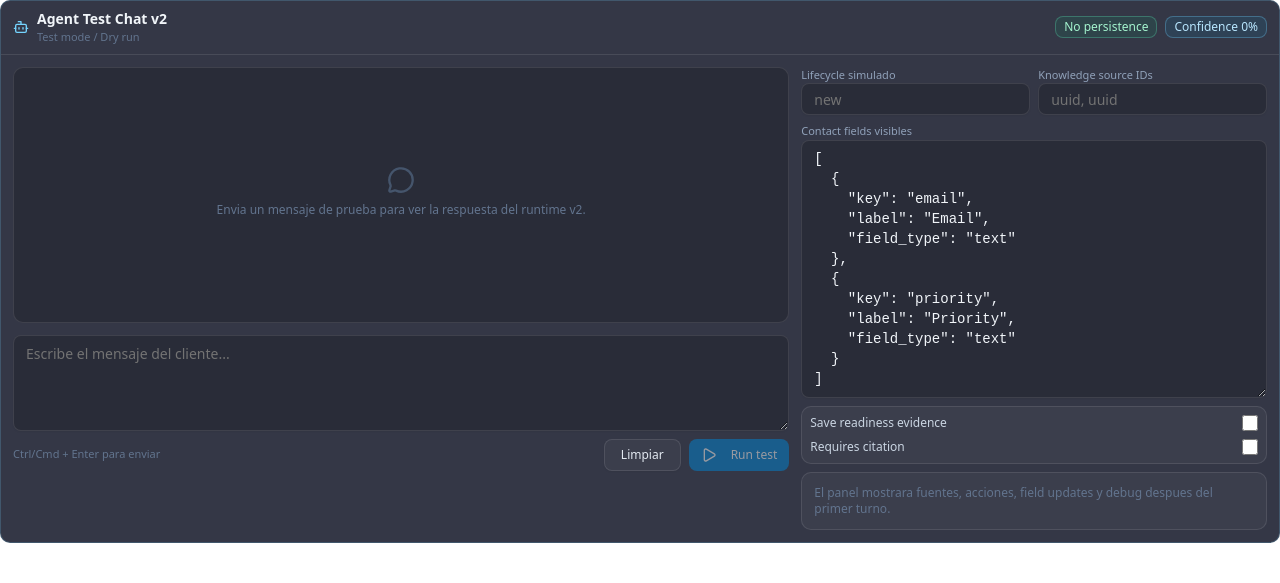
AgentTestChatV2 › renders PolicyValidator errors legibly
Type "Marca prioridad" into the text box with placeholder "Escribe el mensaje del cliente...".
click(401, 382); type("Marca prioridad")  # box [13,334,789,430]
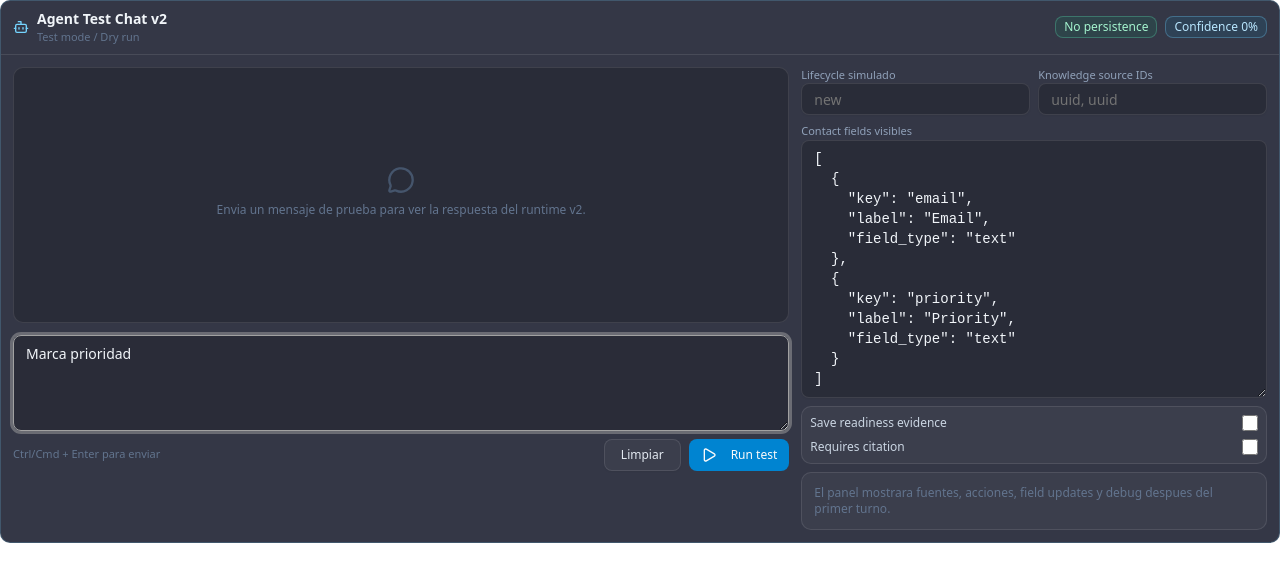
Click the button "Run test".
click(739, 454)  # box [689,438,789,470]
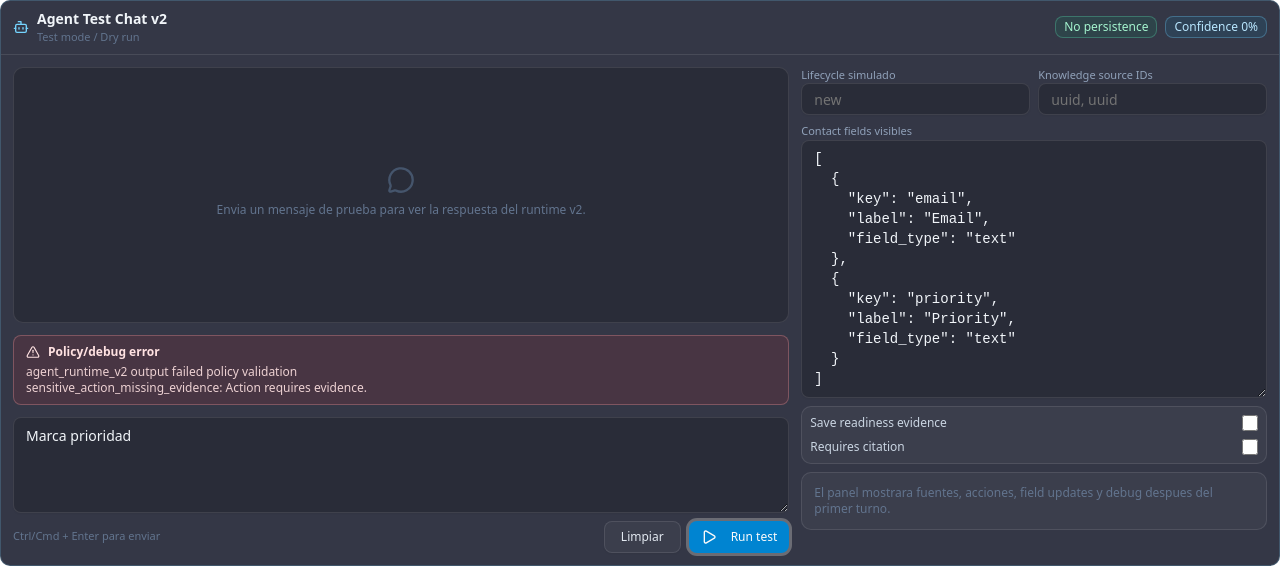
Expected: the text "Policy/debug error" is shown, [26,342,160,360]
Expected: the text "Action requires evidence" is shown, [26,362,367,396]
